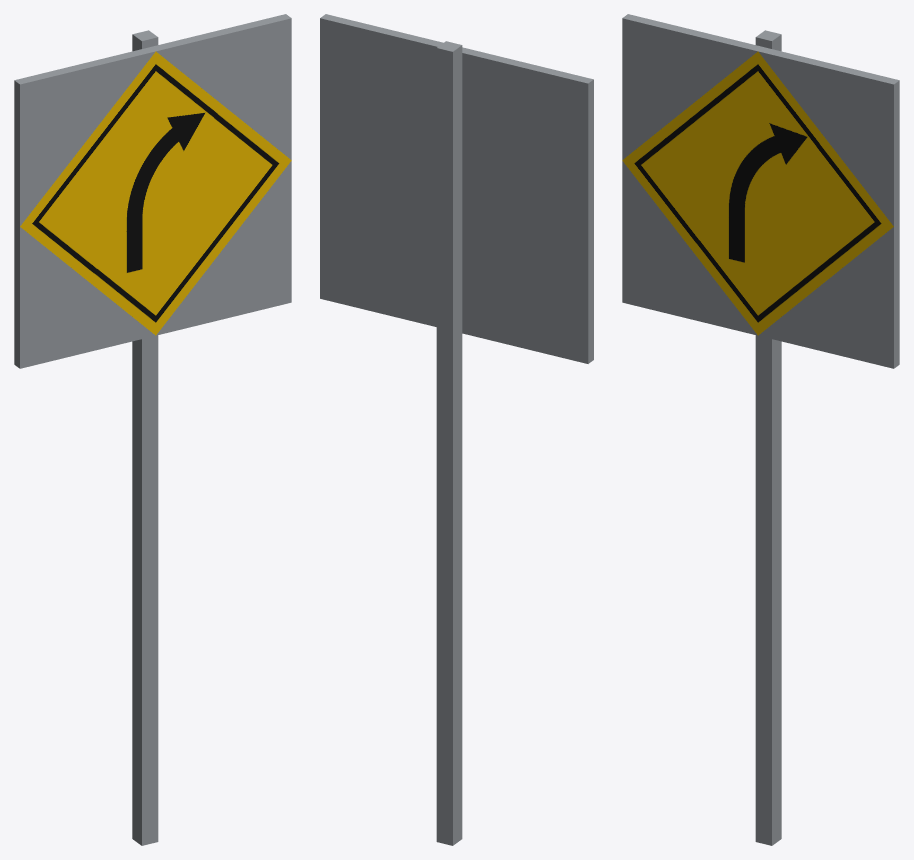
The model's file is us_warn_curve_r.dae.
3 renders of one model, left to right at view 1: azimuth 30°, elevation 25°; view 2: azimuth 150°, elevation 25°; view 3: azimuth 330°, elevation 25°, orthographic.
Parts seen in each view (by area): view 1: sign4, Colmesh-1; view 2: Colmesh-1, sign4; view 3: sign4, Colmesh-1.
Boxes of the visible parts, x1,y1,x2,y2 form: sign4: (20,30,291,845); Colmesh-1: (14,14,291,368); Colmesh-1: (320,14,593,363); sign4: (436,41,462,845); sign4: (622,30,893,845); Colmesh-1: (622,14,899,368).
Bounding box in the file's own units: 1.08 × 0.105 × 3.05.
2 materials, 1 textured.
